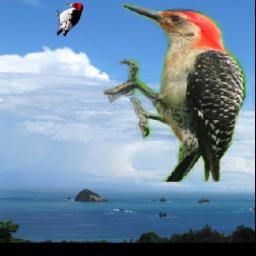Woodpecker: (103, 5, 246, 183), (56, 2, 83, 36)
